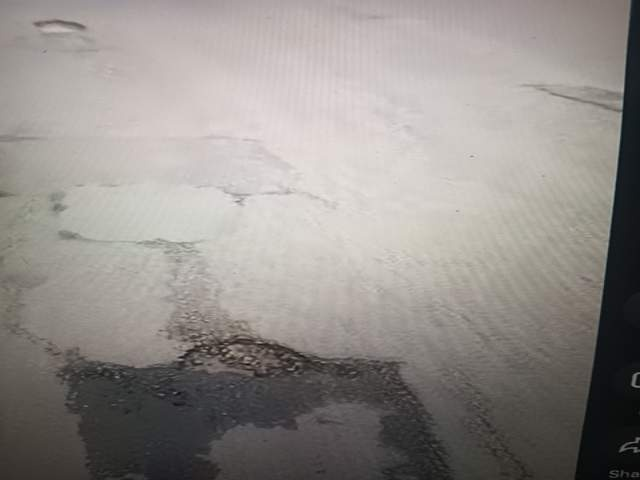pothole: (105, 403, 316, 480)
